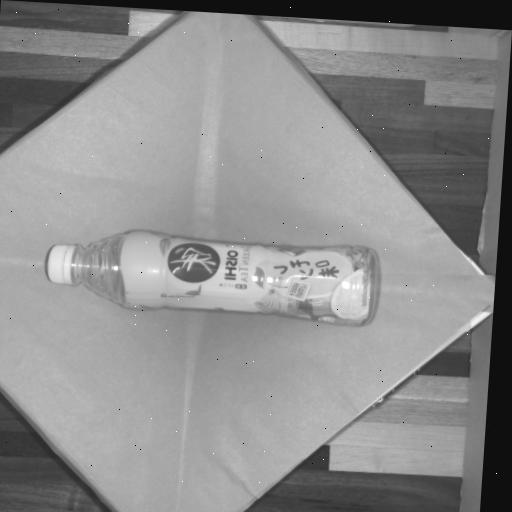bottle: (38, 221, 388, 330)
